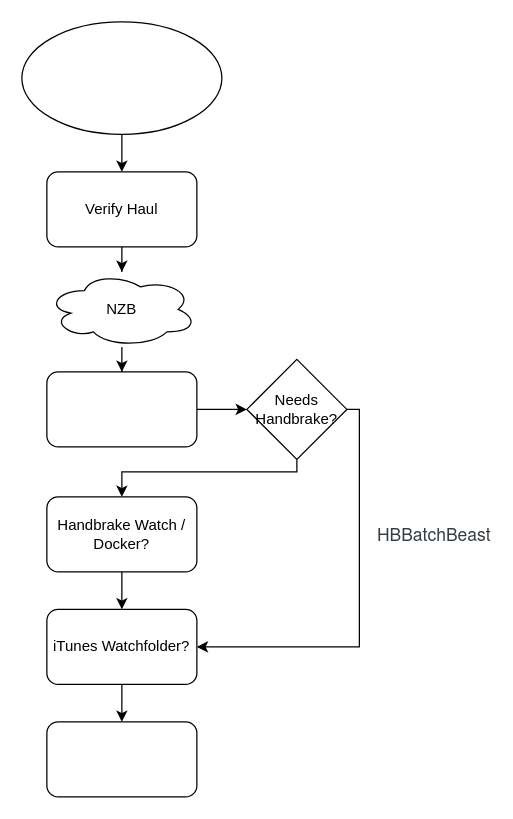
The diagram is 513 pixels wide and 819 high, and some of its shapes have lost their labels. Here are the shapes that lost their labels. From the top down, the box of each, then its label:
(21, 21, 222, 134): Search Movie
(46, 371, 197, 447): Unzip / Process
(46, 721, 197, 797): Cleanup / Refresh Plex
